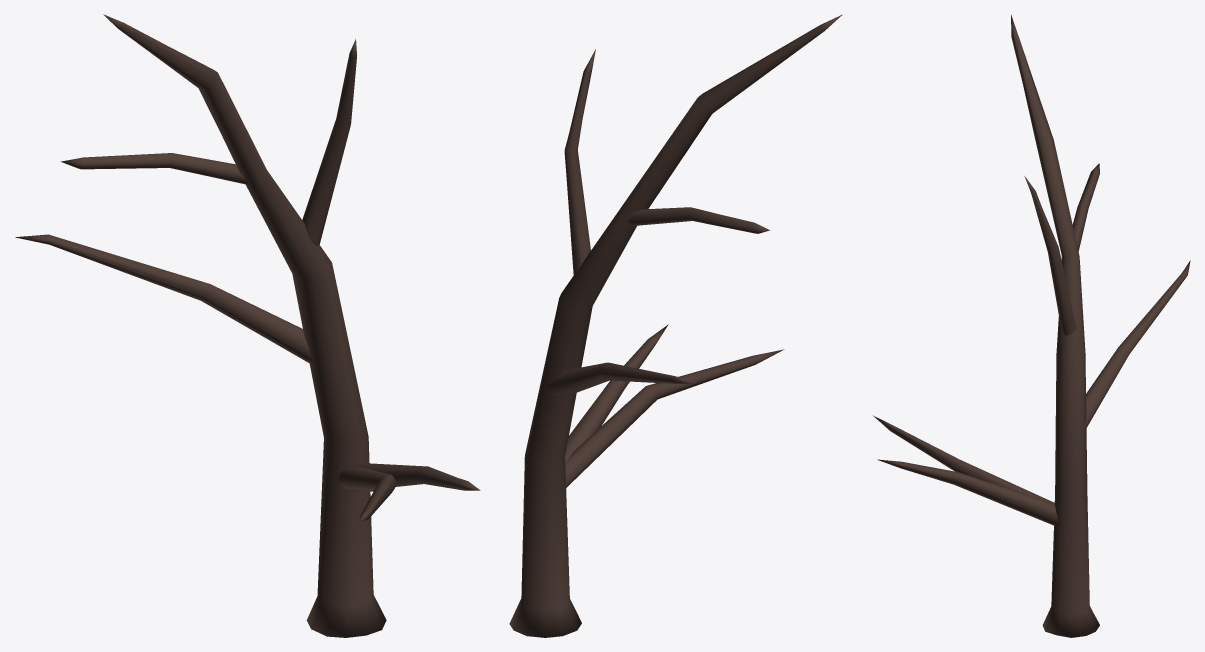
The model's file is TreeDead.fbx.
3 views of the same model, side by side, from view 1: azimuth 30°, elevation 25°; view 2: azimuth 150°, elevation 25°; view 3: azimuth 270°, elevation 25° (orthographic). The views are drawn at different scales.
Parts seen in each view (by area): view 1: Cylinder.002; view 2: Cylinder.002; view 3: Cylinder.002.
Part boxes in pixels (left/top/right/bottom): Cylinder.002: left=15, top=14, right=480, bottom=637; Cylinder.002: left=509, top=14, right=842, bottom=637; Cylinder.002: left=873, top=15, right=1190, bottom=637.
Bounding box in the file's own units: 362 × 766 × 432.
